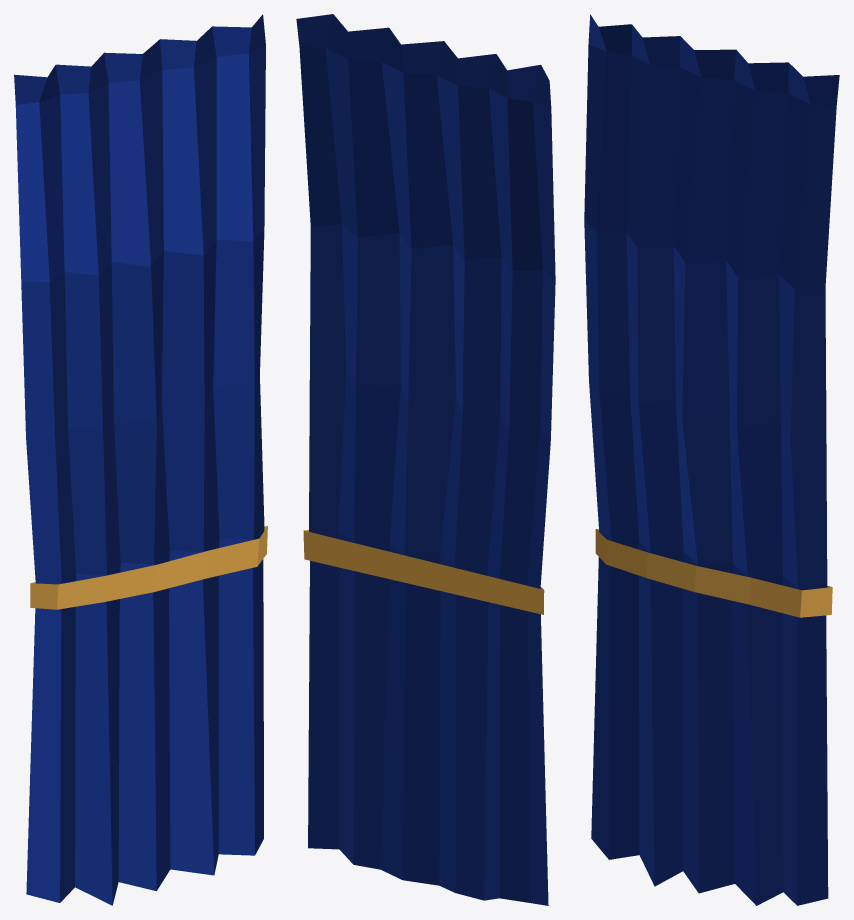
The model's file is CurtainRight.fbx.
3 views of the same model, side by side, from view 1: azimuth 30°, elevation 25°; view 2: azimuth 150°, elevation 25°; view 3: azimuth 330°, elevation 25° (orthographic).
Parts seen in each view (by area): view 1: CurtainRoght; view 2: CurtainRoght; view 3: CurtainRoght.
Boxes of the visible parts, left/top/right/bottom form: CurtainRoght: left=14, top=14, right=267, bottom=905; CurtainRoght: left=296, top=14, right=555, bottom=905; CurtainRoght: left=584, top=14, right=839, bottom=905.
Bounding box in the file's own units: 94.07 × 303 × 16.64.
